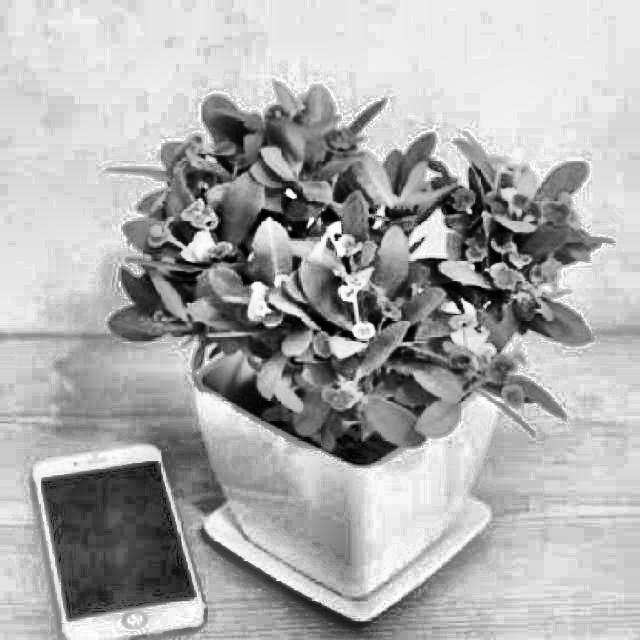plants: (194, 107, 538, 598)
